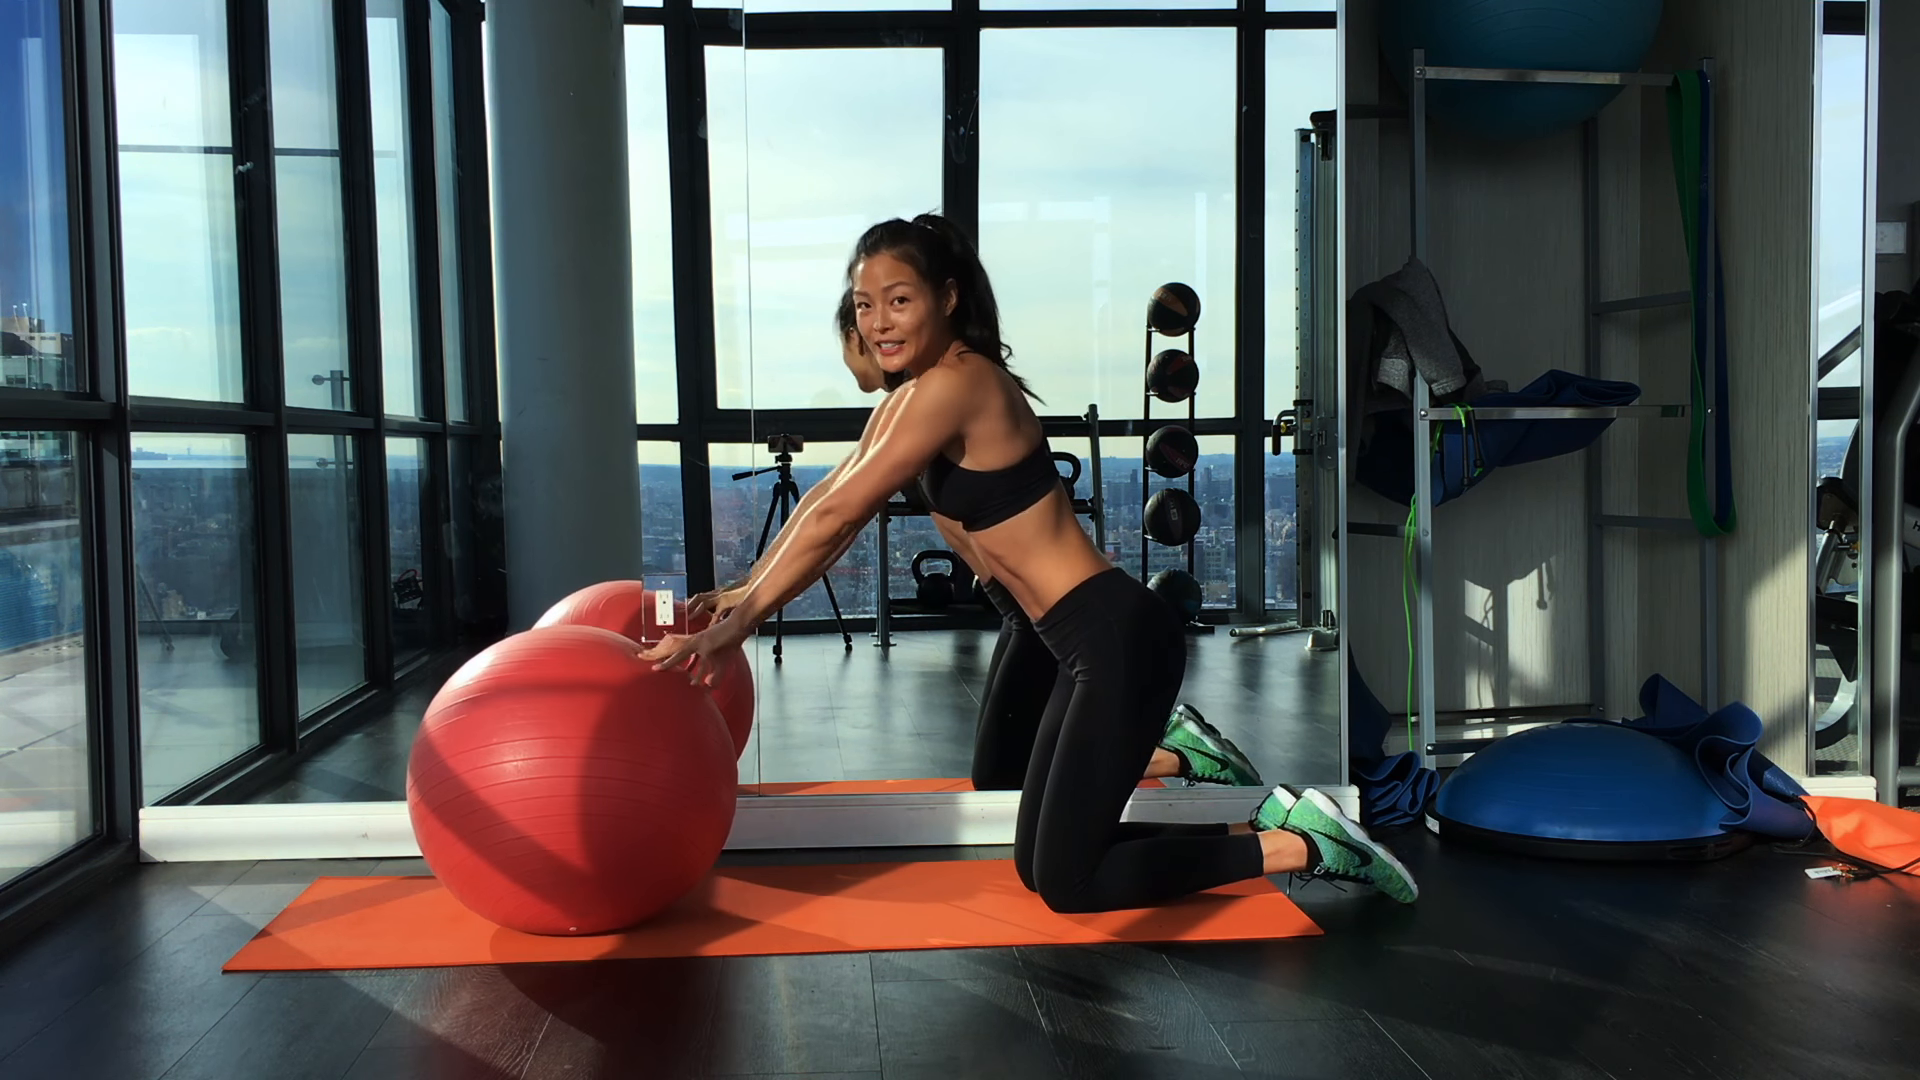yogaball: (397, 624, 754, 943)
